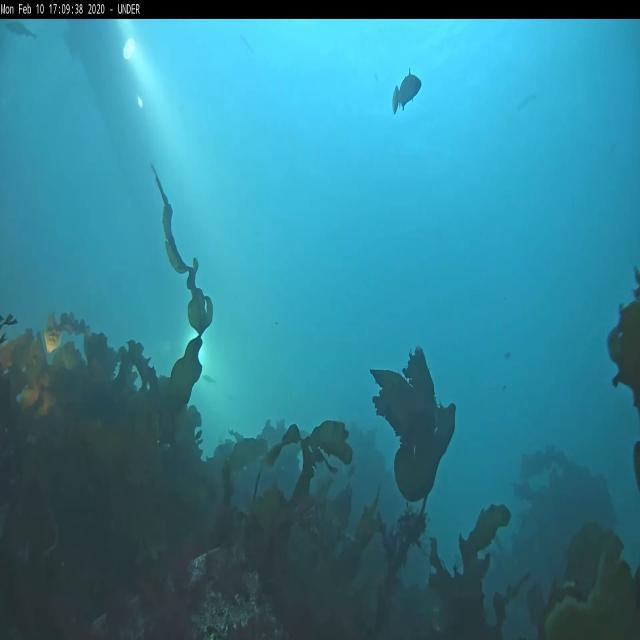fish: (392, 66, 422, 115), (5, 22, 36, 42), (204, 374, 218, 386)
